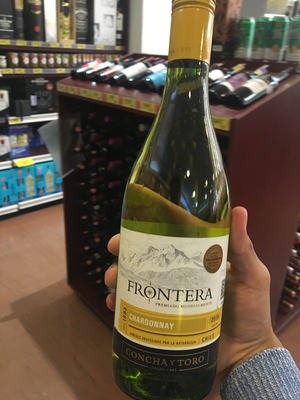frontera chardonnay: (114, 7, 237, 391)
